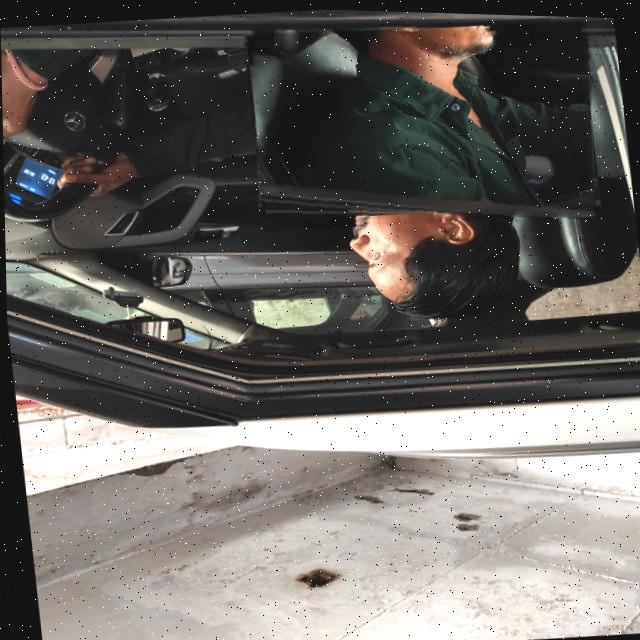no-seatbelt: (241, 6, 604, 237)
